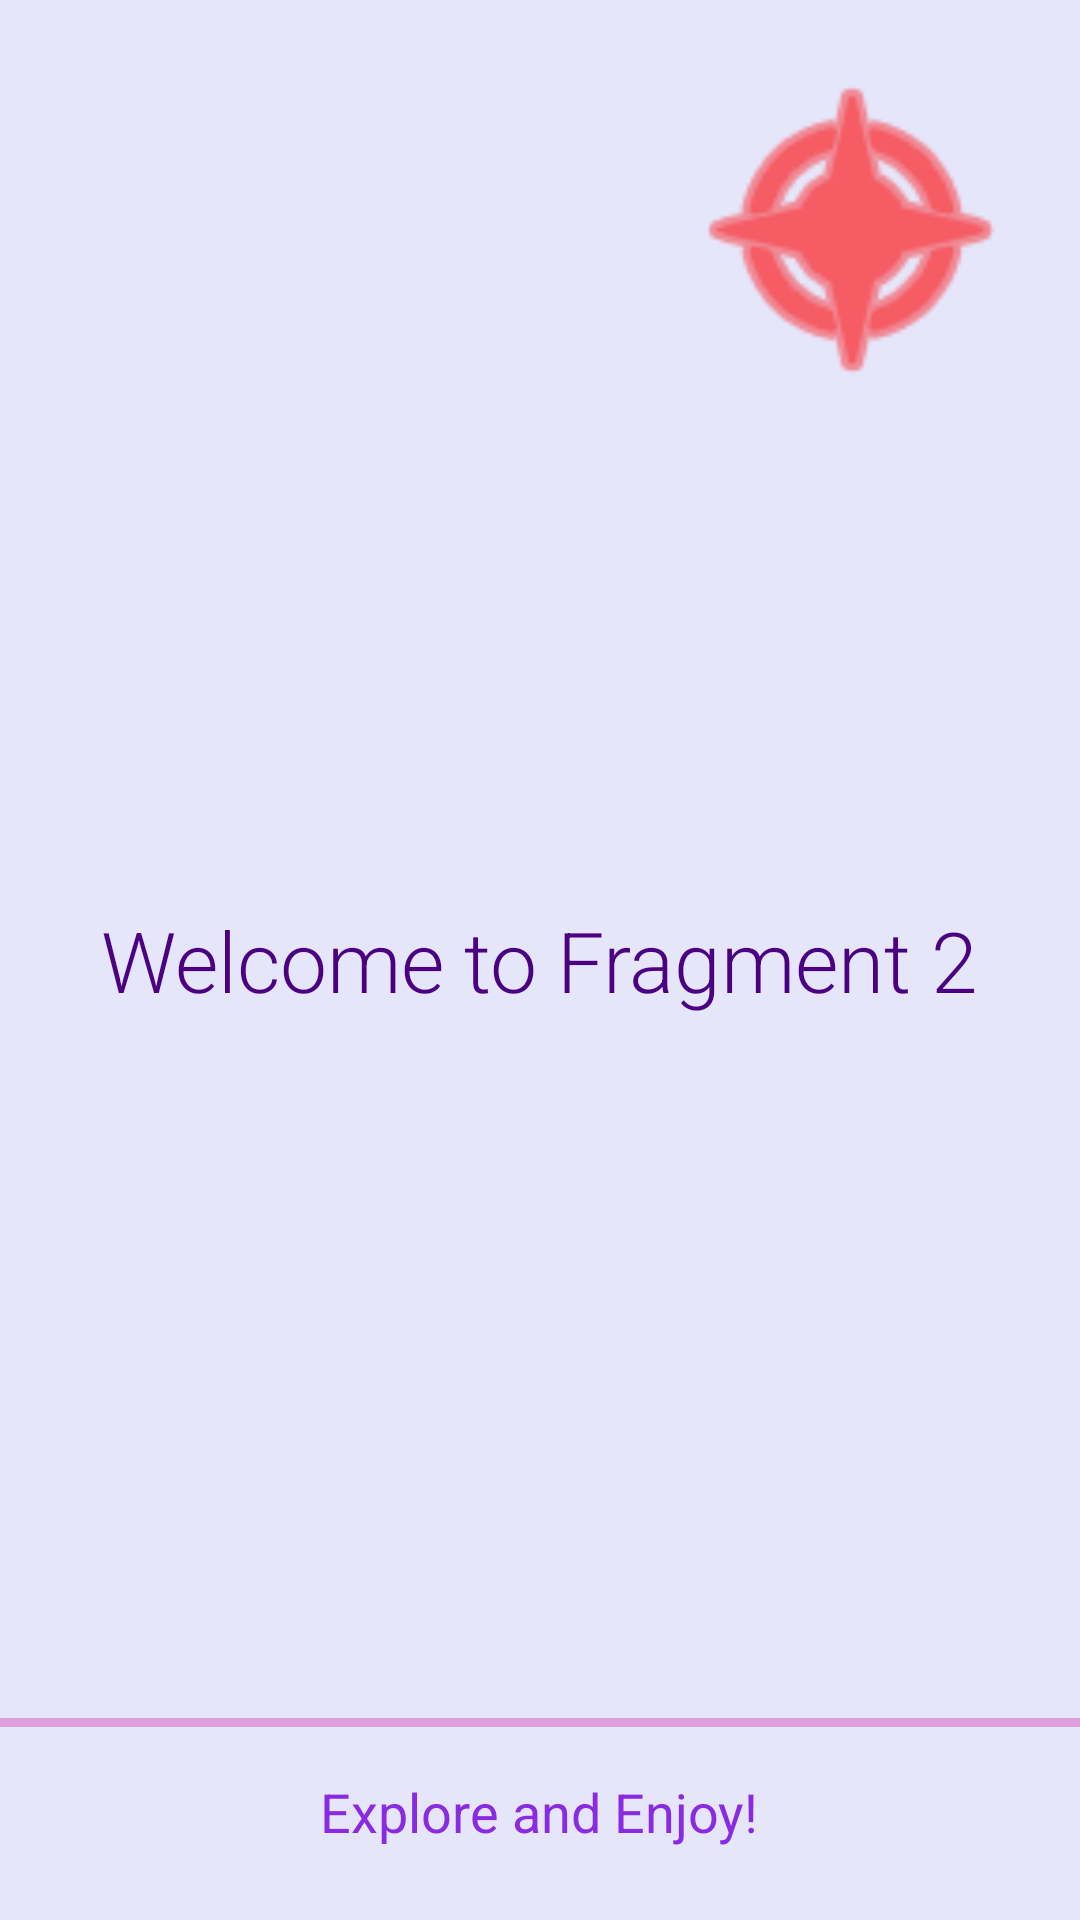

Named icons in this screenshot (1080 x 1920) and their bounding boxes, [x1=x1, y1=y1, x2=x2, y2=y2]:
compass: [x1=708, y1=88, x2=993, y2=372]
